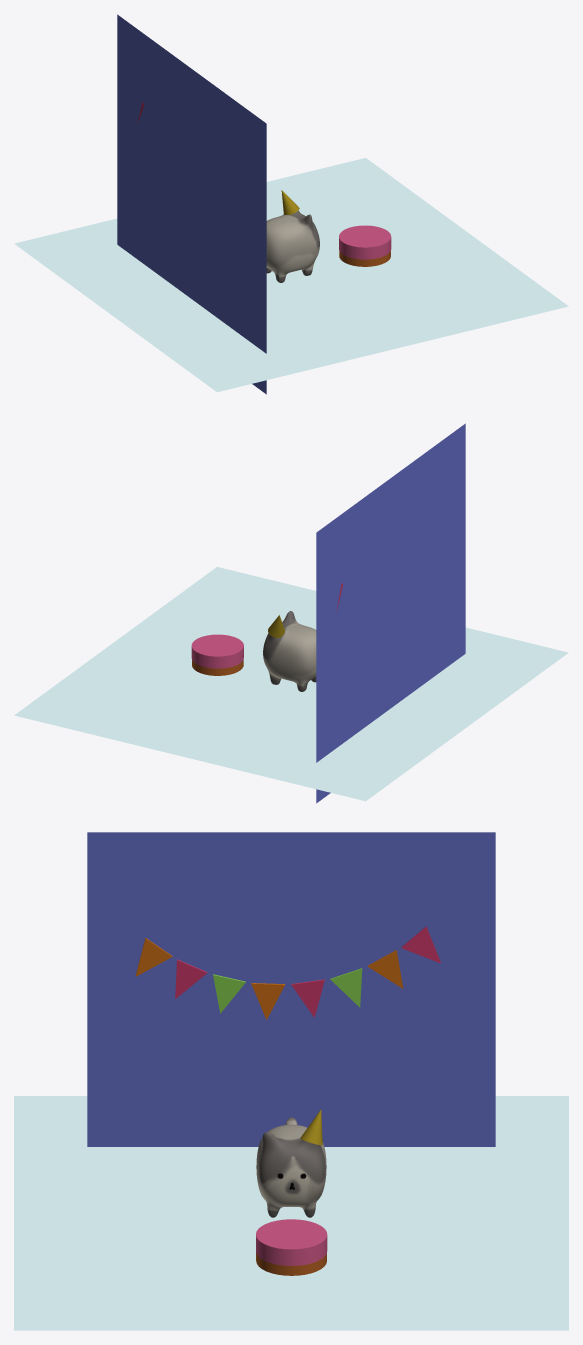
Rendered from party.obj.
3 renders of one model, top to bottom at view 1: azimuth 30°, elevation 25°; view 2: azimuth 150°, elevation 25°; view 3: azimuth 270°, elevation 25°, orthographic. The views are drawn at different scales.
Visible parts, largest first — view 1: Plane, Plane.001, Cat, Cylinder; view 2: Plane, Plane.001, Cat, Cylinder; view 3: Plane.001, Plane, Cat, Cylinder, Plane.003, Plane.004, Plane.009, Plane.002, Plane.005, Plane.007, Plane.006, Plane.008.
Part boxes in pixels (x1,y1,x2,y2): Plane: (14,158,568,392); Plane.001: (117,14,266,394); Cat: (266,210,319,282); Cylinder: (339,225,391,266); Plane: (14,567,568,801); Plane.001: (316,423,465,803); Cat: (263,611,316,691); Cylinder: (191,634,243,675); Plane.001: (87,832,495,1146); Plane: (14,1096,568,1330); Cat: (256,1117,326,1217); Cylinder: (256,1219,327,1275); Plane.003: (330,968,362,1007); Plane.004: (401,926,440,963); Plane.009: (135,938,172,976); Plane.002: (291,979,324,1017); Plane.005: (367,950,403,988); Plane.007: (251,983,284,1019); Plane.006: (213,974,245,1013); Plane.008: (175,959,207,998).
Bounding box in the file's own units: 15.66 × 11.52 × 15.66.
